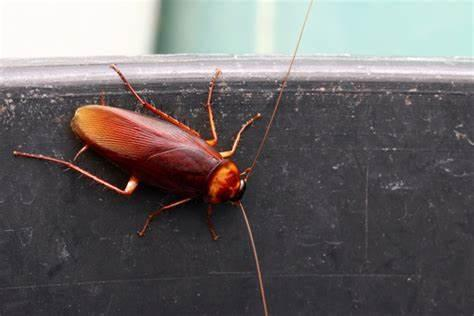cockroach: (69, 90, 250, 225)
